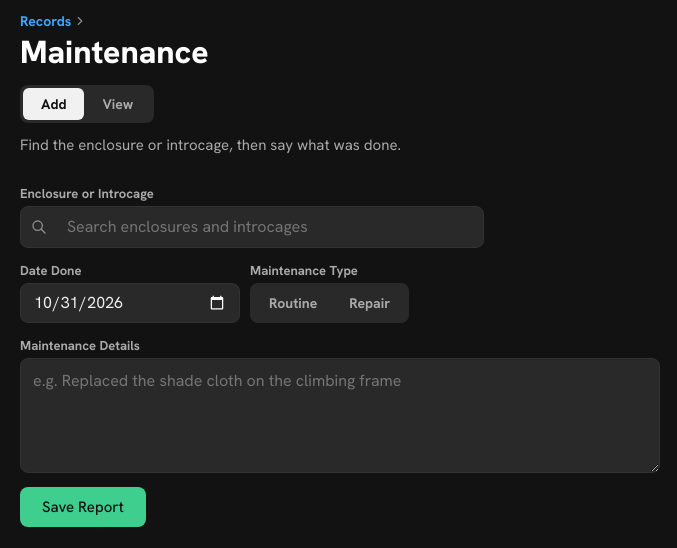
Add › something missing: says what, nothing saved
What coordinates should you click on to do the following:
click the button "Save Report"
I would click on:
 (83, 506)
Its box is [20,486,146,526].
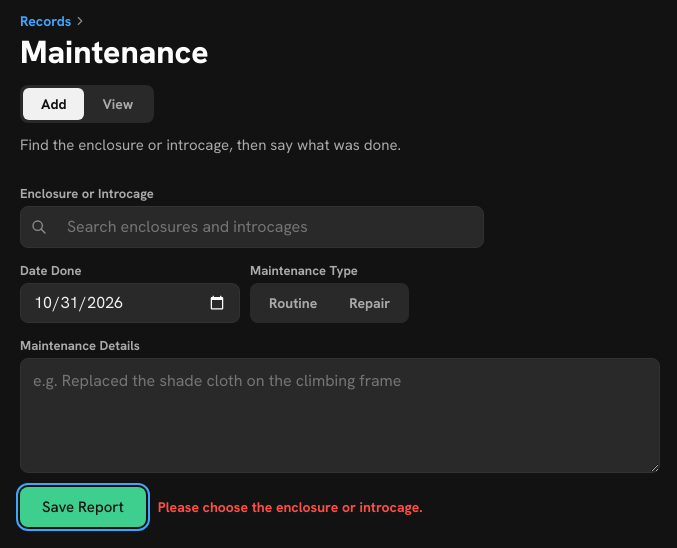
Expected: the message reads "Please choose the enclosure or introcage.", [158,498,423,516]
